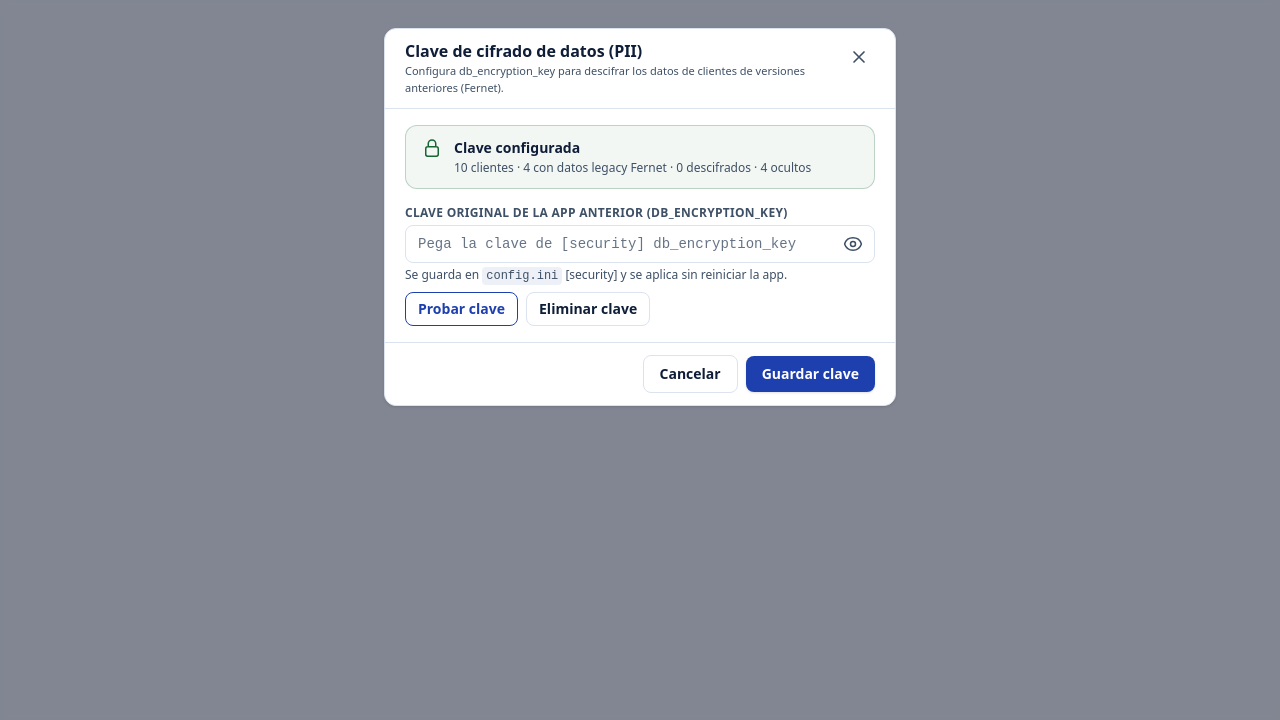
Test: PiiKeyDialog — eliminar clave › error al eliminar se muestra como alerta
expect the text "Clave configurada" is shown: met, box [454,138,580,157]
Click the button "Eliminar clave" at (588, 309), box [526,292,650,326]
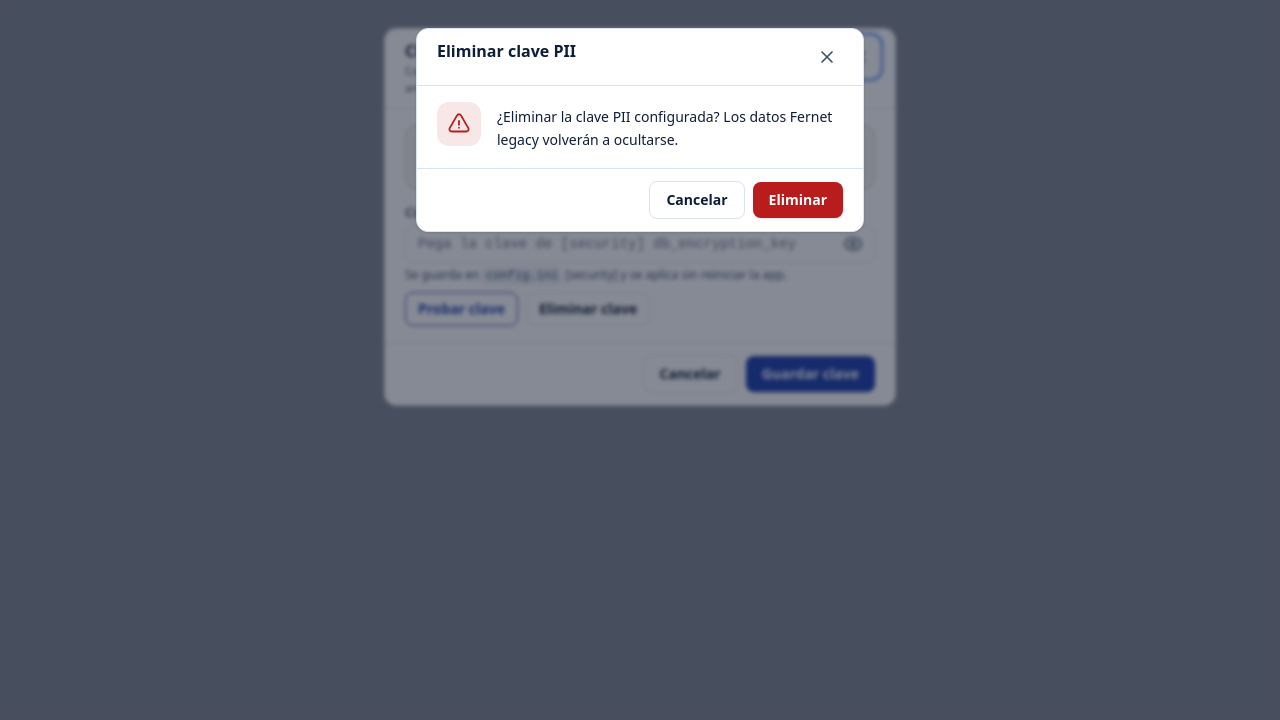
Click the button "Eliminar" at (798, 200), box [753,182,843,218]
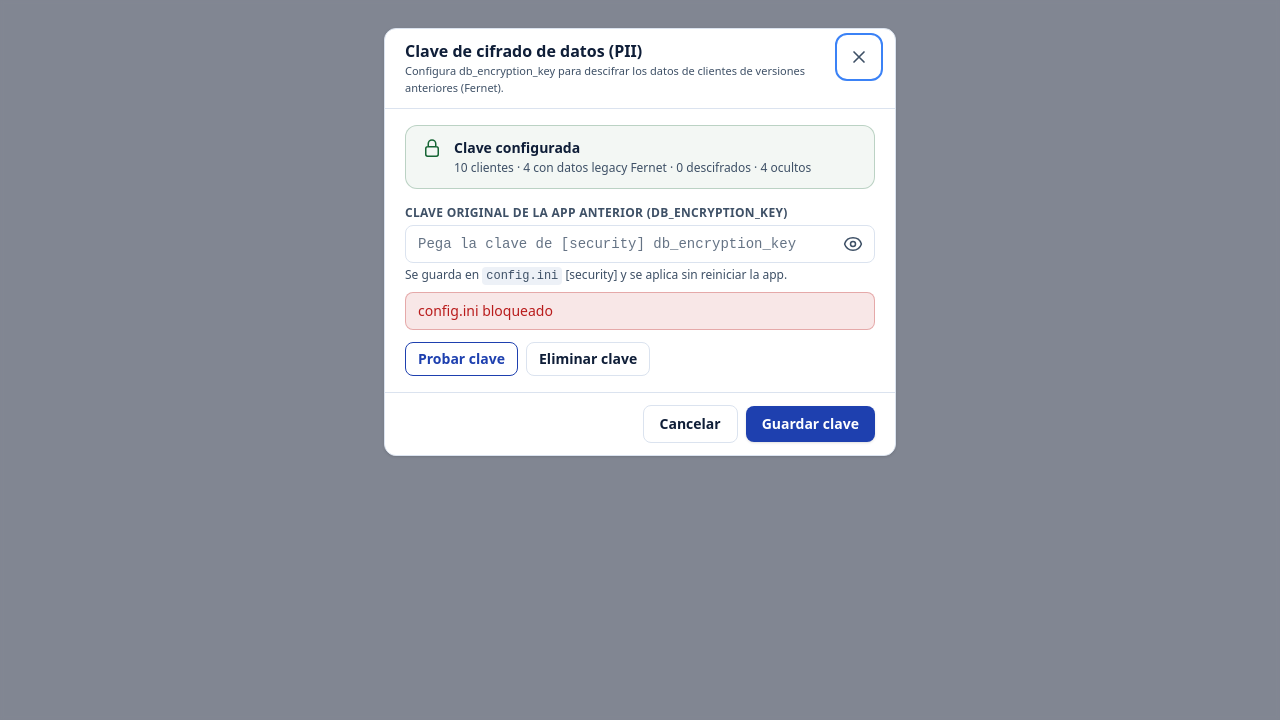
expect the message reads "config.ini bloqueado": met, box [418,301,553,320]
